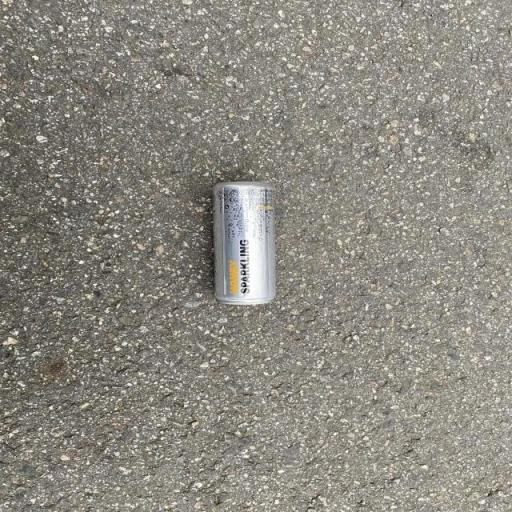metal: (180, 162, 316, 330)
